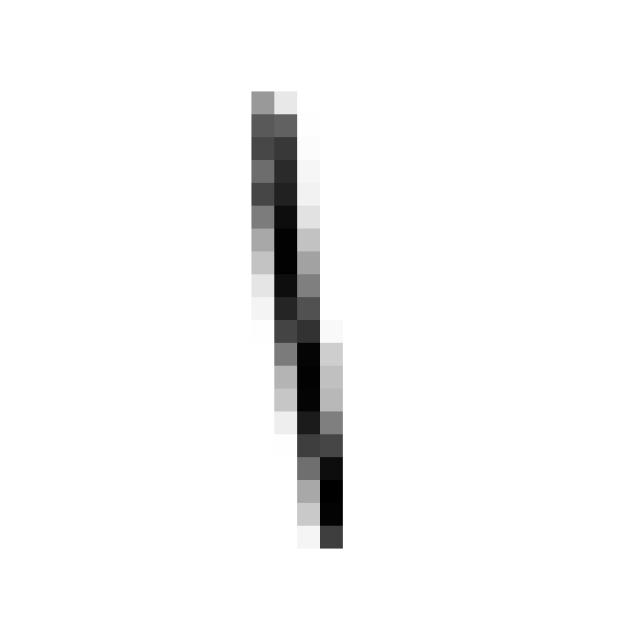1 -one-: (226, 75, 360, 568)
